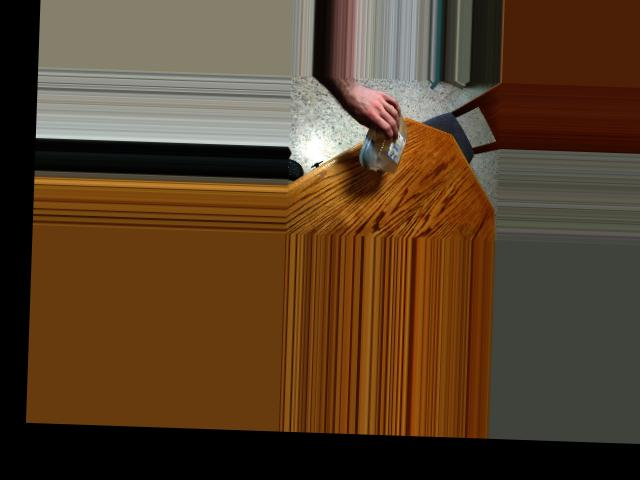cheese: (358, 99, 406, 154)
